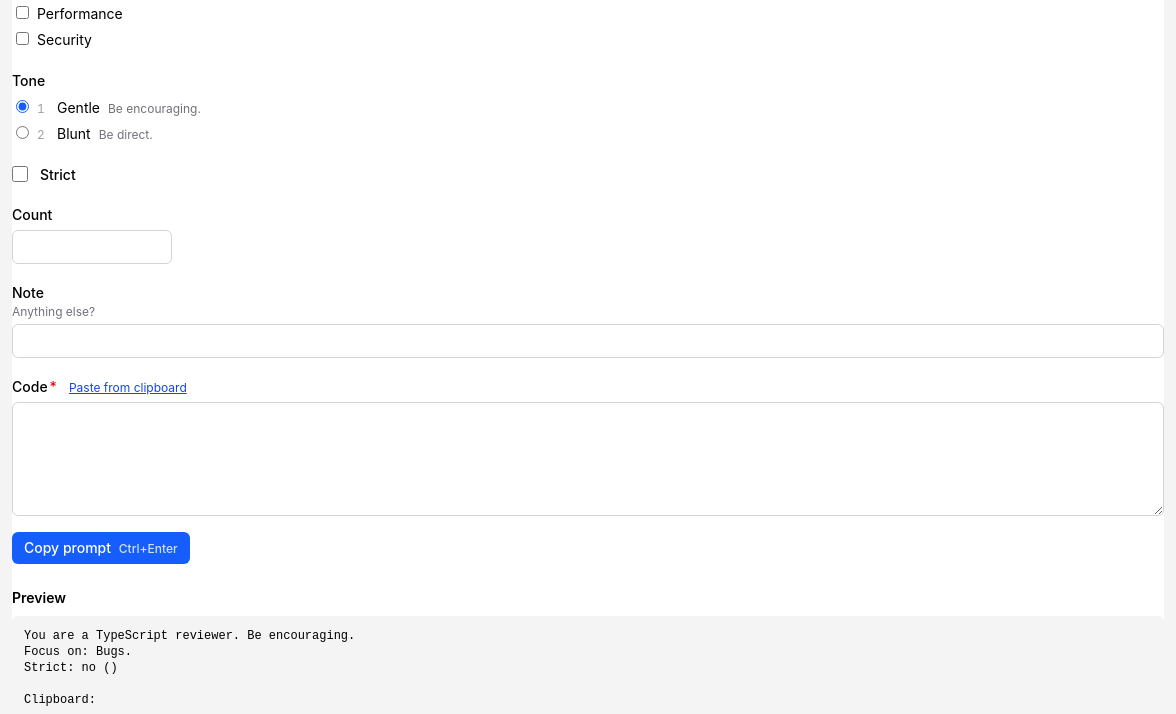
Test: missing answers › copies nothing, marks the field and moves focus to it
(page scrolled)
Expected: the text "is required" is not shown
Click the button "Copy prompt Ctrl+Enter" at (101, 548), box [12,532,190,564]
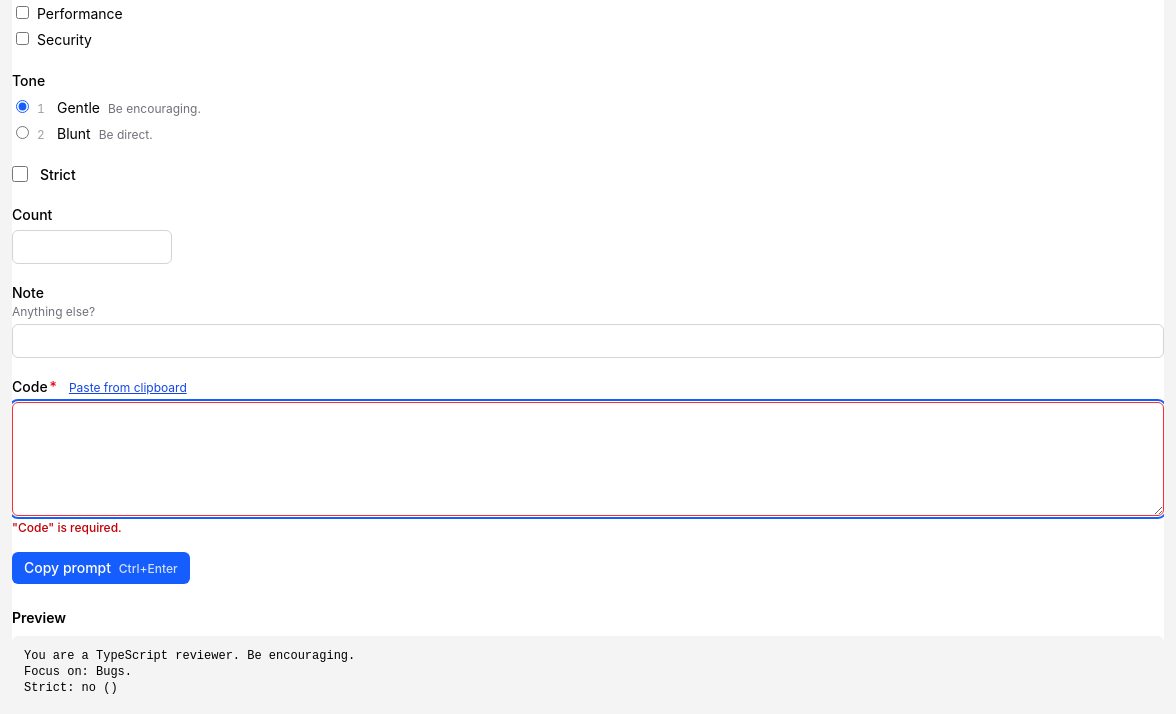
Expected: the text "\"Code\" is required." is shown, [12,520,122,535]
